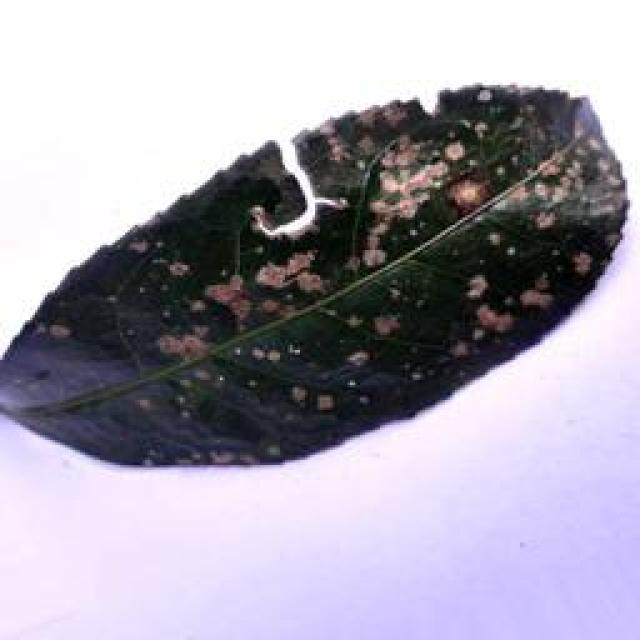Algal Leaf Spot: (0, 70, 640, 482)
